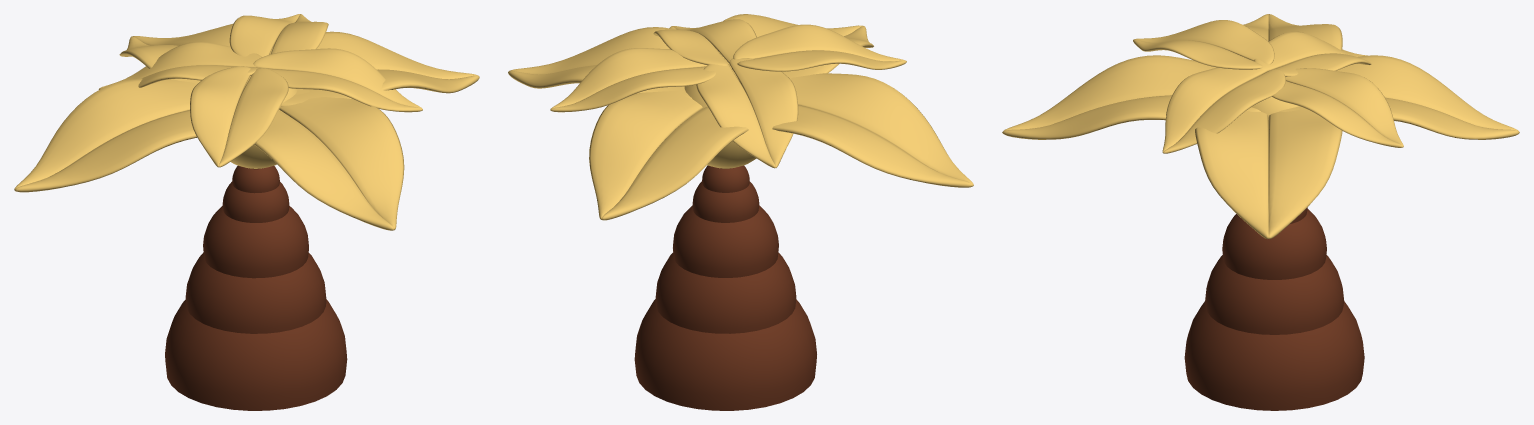
File: Wüstenbaum.fbx
The picture shows the model from 3 angles, left to right: view 1: azimuth 30°, elevation 25°; view 2: azimuth 150°, elevation 25°; view 3: azimuth 270°, elevation 25°; orthographic projection.
Parts seen in each view (by area): view 1: Baumstamm, Plane.002, Plane.004, Plane.009, Plane.006, Plane.005, Plane.010, Plane.007, Plane.001; view 2: Baumstamm, Plane.001, Plane.004, Plane.007, Plane.010, Plane.009, Plane.005, Plane.006, Plane.002; view 3: Baumstamm, Plane.005, Plane.002, Plane.001, Plane.006, Plane.010, Plane.009, Plane.007, Plane.004.
Boxes of the visible parts, x1,y1,x2,y2 form: Baumstamm: [165, 76, 347, 410]; Plane.002: [254, 89, 404, 230]; Plane.004: [14, 78, 197, 192]; Plane.009: [190, 66, 288, 167]; Plane.006: [253, 48, 422, 112]; Plane.005: [280, 31, 479, 106]; Plane.010: [229, 14, 328, 56]; Plane.007: [98, 41, 262, 89]; Plane.001: [119, 24, 272, 84]; Baumstamm: [634, 64, 816, 410]; Plane.001: [589, 86, 748, 220]; Plane.004: [772, 73, 973, 187]; Plane.007: [696, 58, 798, 168]; Plane.010: [550, 48, 715, 112]; Plane.009: [733, 24, 906, 71]; Plane.005: [508, 27, 729, 98]; Plane.006: [653, 19, 756, 69]; Plane.002: [716, 14, 873, 78]; Baumstamm: [1184, 75, 1364, 410]; Plane.005: [1195, 106, 1342, 238]; Plane.002: [1002, 55, 1260, 139]; Plane.001: [1279, 55, 1519, 139]; Plane.006: [1162, 67, 1285, 153]; Plane.010: [1272, 68, 1403, 147]; Plane.009: [1133, 20, 1274, 69]; Plane.007: [1254, 31, 1371, 76]; Plane.004: [1214, 14, 1342, 67].
Size of the model in its own units: 289 by 188 by 282.
